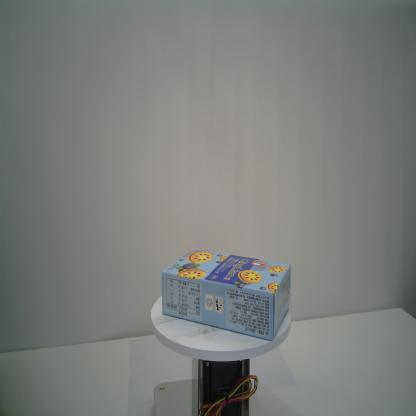Dessert: (161, 248, 292, 342)
